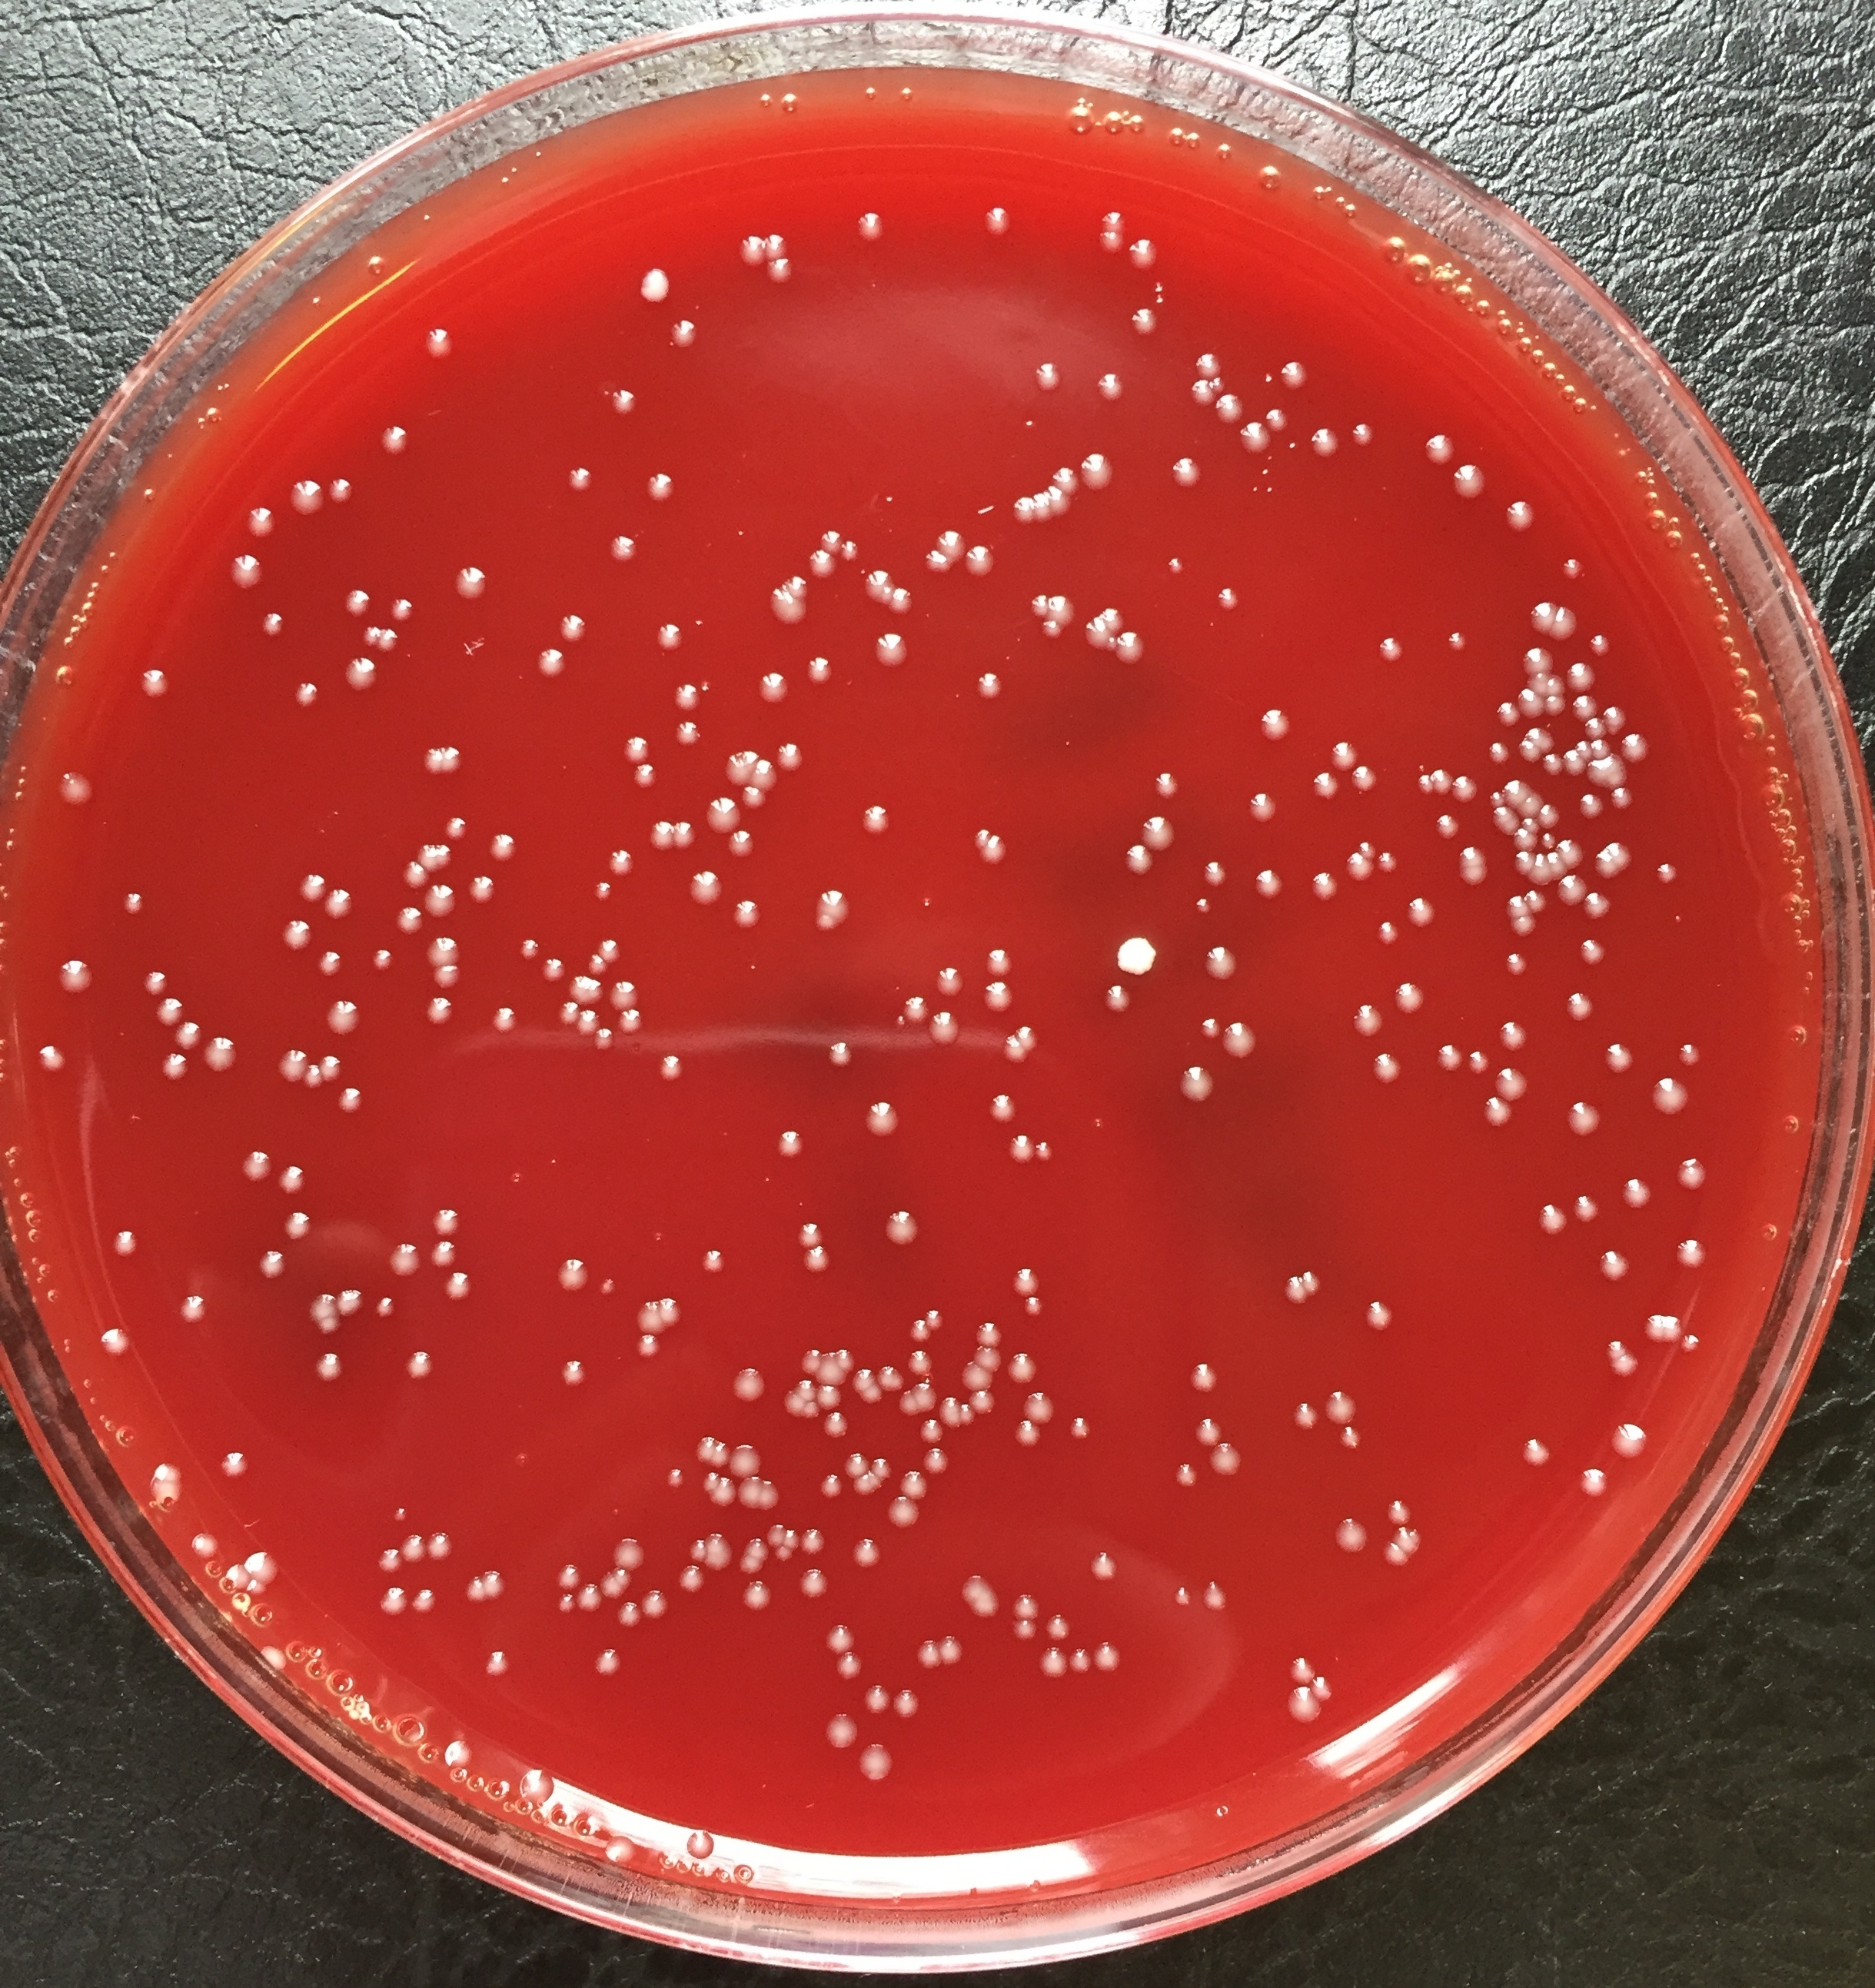sp06: (42, 756, 111, 814), (624, 261, 682, 310), (337, 654, 384, 710), (596, 382, 656, 427), (1174, 1059, 1225, 1109), (582, 1639, 627, 1692), (879, 1204, 932, 1250), (226, 548, 273, 597), (127, 661, 174, 710), (1163, 453, 1209, 502), (959, 1570, 1001, 1623), (317, 994, 365, 1040), (772, 1124, 819, 1170), (862, 1098, 906, 1147), (381, 1239, 426, 1285), (282, 675, 330, 719), (51, 952, 95, 999), (374, 411, 409, 469), (277, 906, 314, 961), (26, 1036, 72, 1080), (1223, 1017, 1269, 1061), (285, 469, 326, 518), (849, 1533, 892, 1579), (844, 206, 886, 252), (321, 872, 356, 925), (1648, 1073, 1690, 1117), (199, 1027, 240, 1073), (819, 1710, 860, 1755), (419, 315, 458, 363), (1609, 1417, 1648, 1465), (483, 1646, 520, 1695), (858, 1741, 895, 1791), (871, 626, 911, 670), (1447, 462, 1491, 502), (115, 881, 153, 927), (525, 645, 571, 684), (479, 828, 525, 867), (555, 1253, 594, 1299), (402, 1346, 441, 1392), (553, 603, 590, 650), (271, 1042, 307, 1091), (603, 1819, 638, 1868), (153, 1049, 194, 1091), (1207, 1442, 1248, 1484), (1565, 1096, 1605, 1139), (1198, 1572, 1232, 1623), (1600, 1241, 1634, 1292), (516, 1761, 555, 1805), (751, 664, 789, 708), (823, 1038, 863, 1079), (923, 1010, 964, 1050), (1346, 999, 1387, 1040), (310, 1346, 349, 1389), (104, 1223, 143, 1265), (273, 1156, 312, 1198), (707, 1524, 735, 1583), (1181, 1355, 1219, 1398), (1077, 451, 1115, 493), (1671, 1151, 1709, 1193), (1200, 943, 1244, 980), (456, 557, 488, 608), (661, 314, 707, 349), (682, 1814, 712, 1866), (559, 462, 599, 501), (797, 1563, 835, 1604), (1242, 791, 1283, 830), (1256, 705, 1295, 745), (684, 871, 724, 909), (761, 587, 802, 626), (277, 1211, 319, 1248), (426, 1524, 463, 1567), (234, 1146, 270, 1190), (1034, 1643, 1070, 1687), (856, 805, 900, 841), (1031, 356, 1066, 400), (730, 892, 763, 938), (982, 201, 1015, 247), (367, 939, 398, 987), (643, 464, 682, 502), (569, 968, 608, 1006), (444, 1271, 483, 1309), (883, 1496, 922, 1535), (703, 795, 742, 834), (331, 1084, 368, 1124), (610, 1530, 647, 1570), (1121, 844, 1161, 881), (1419, 428, 1456, 469), (1332, 1516, 1369, 1556), (633, 1297, 668, 1339), (176, 1288, 211, 1331), (479, 1563, 513, 1607), (1588, 754, 1634, 786), (95, 1324, 132, 1362), (724, 1366, 763, 1403), (1089, 368, 1128, 405), (1493, 1064, 1530, 1103), (254, 606, 294, 642), (730, 1438, 770, 1473), (1392, 976, 1427, 1017), (615, 733, 663, 763), (733, 229, 763, 277), (1308, 421, 1341, 464), (1505, 493, 1538, 536), (1369, 1049, 1403, 1091), (326, 469, 358, 513), (976, 948, 1020, 980), (148, 992, 185, 1029), (419, 994, 456, 1031), (426, 1202, 463, 1239), (1084, 1547, 1121, 1584), (1142, 814, 1179, 851), (236, 497, 271, 536), (721, 747, 756, 786), (1598, 1040, 1634, 1079), (425, 879, 458, 920), (555, 1355, 589, 1396), (257, 1248, 291, 1288), (934, 961, 967, 1001), (650, 619, 684, 659), (1114, 631, 1147, 671), (1674, 1237, 1708, 1278), (296, 862, 324, 909), (1285, 1687, 1316, 1729), (483, 1005, 518, 1042), (305, 1285, 342, 1320), (375, 1586, 411, 1623), (1251, 864, 1286, 901), (668, 680, 705, 716), (1323, 1387, 1359, 1424), (1574, 932, 1609, 969), (425, 932, 463, 966), (441, 1734, 474, 1773), (957, 1366, 996, 1399), (1124, 236, 1163, 270), (1360, 1297, 1394, 1336), (1614, 1177, 1653, 1211), (245, 1546, 285, 1577), (1006, 1350, 1038, 1391), (1186, 1410, 1218, 1450), (1309, 871, 1341, 911), (537, 948, 567, 990), (742, 1579, 772, 1621), (1094, 1639, 1124, 1681), (315, 939, 344, 983), (388, 902, 423, 938), (1563, 989, 1598, 1024), (340, 585, 374, 622), (604, 530, 638, 567), (804, 1246, 837, 1283), (982, 980, 1019, 1013), (973, 670, 1006, 707), (1375, 633, 1408, 670), (1010, 1258, 1041, 1297), (814, 885, 853, 916), (1239, 419, 1271, 458), (802, 1521, 832, 1561), (1145, 770, 1186, 800), (174, 1015, 208, 1050), (654, 1049, 687, 1084), (187, 1528, 222, 1561), (973, 1315, 1006, 1350), (1006, 1586, 1041, 1620), (1276, 356, 1309, 391), (1480, 1096, 1514, 1131), (1170, 1459, 1202, 1496), (673, 716, 705, 753), (1519, 1436, 1551, 1473), (1535, 1200, 1567, 1237), (1350, 765, 1382, 802), (1404, 894, 1436, 931), (1570, 1190, 1600, 1228), (442, 737, 471, 777), (606, 839, 634, 879), (865, 564, 893, 605), (675, 1567, 708, 1600), (1556, 872, 1590, 906), (337, 1280, 363, 1322), (220, 1445, 252, 1480), (826, 1620, 862, 1651), (941, 1630, 967, 1673), (920, 1445, 952, 1480), (1345, 416, 1376, 451), (1329, 738, 1360, 774), (1496, 1017, 1528, 1052), (426, 1241, 463, 1271), (259, 1637, 289, 1674), (1290, 1398, 1318, 1436), (805, 650, 834, 689), (1211, 578, 1239, 617), (1279, 1265, 1304, 1309), (892, 1687, 918, 1727), (915, 1636, 941, 1676), (1655, 849, 1681, 890), (897, 1470, 929, 1503), (1101, 980, 1133, 1013), (761, 259, 795, 291), (967, 548, 999, 582), (1082, 615, 1114, 649), (1211, 391, 1244, 423), (1577, 1466, 1609, 1500), (1308, 770, 1341, 802), (1519, 645, 1553, 677), (1565, 661, 1598, 693), (735, 788, 770, 818), (934, 523, 964, 559), (1433, 1042, 1463, 1077), (396, 855, 425, 892), (1195, 1005, 1223, 1042), (1130, 305, 1158, 342), (1491, 698, 1519, 735), (388, 590, 414, 629), (467, 874, 499, 906), (832, 1651, 863, 1683), (862, 1683, 893, 1715), (791, 1216, 823, 1248), (1281, 1653, 1313, 1685), (1034, 619, 1066, 650), (608, 978, 641, 1008), (1198, 857, 1228, 890), (1500, 946, 1530, 980), (1621, 731, 1651, 765), (701, 1242, 730, 1278), (576, 1584, 604, 1620), (747, 756, 775, 791), (1029, 490, 1057, 525), (1516, 687, 1544, 723), (641, 1588, 668, 1625), (411, 1581, 435, 1620), (671, 814, 696, 853), (398, 1533, 428, 1565), (552, 1558, 583, 1588), (1026, 1391, 1056, 1422), (989, 1093, 1019, 1124), (726, 827, 756, 858), (1588, 631, 1618, 663), (136, 969, 169, 998), (1045, 1609, 1073, 1643), (1006, 1131, 1034, 1165), (807, 548, 835, 582), (765, 226, 793, 259), (1338, 1422, 1366, 1456), (317, 1049, 344, 1084), (1553, 603, 1579, 638), (1068, 1644, 1093, 1681), (916, 1419, 946, 1449), (629, 763, 659, 793), (1345, 855, 1375, 885), (416, 742, 444, 774), (439, 812, 471, 841), (615, 1600, 643, 1632), (1098, 229, 1126, 261), (1047, 592, 1078, 620), (1105, 603, 1137, 631), (1385, 1498, 1413, 1530), (1674, 1042, 1706, 1070), (1575, 790, 1604, 821), (1170, 1579, 1193, 1618), (1161, 548, 1186, 583), (1528, 596, 1549, 636), (301, 1061, 324, 1098), (890, 585, 913, 622), (590, 1024, 619, 1054), (823, 1412, 853, 1440), (816, 1355, 844, 1385), (980, 837, 1008, 867), (1195, 347, 1225, 375), (1441, 626, 1470, 656), (1452, 774, 1482, 802), (1526, 726, 1556, 754), (1489, 807, 1517, 837), (310, 1315, 342, 1341), (150, 1482, 182, 1509), (693, 1431, 719, 1463), (869, 1452, 895, 1484), (878, 1362, 904, 1394), (904, 1346, 936, 1373), (1017, 1020, 1043, 1052), (775, 738, 802, 770), (515, 934, 539, 968), (663, 1463, 687, 1496), (818, 1470, 842, 1503), (904, 994, 929, 1027), (1188, 375, 1212, 409), (1560, 837, 1584, 871), (460, 1569, 481, 1607), (381, 627, 404, 663), (597, 1271, 620, 1306), (714, 1475, 737, 1510), (1050, 483, 1073, 518), (1454, 844, 1489, 867), (816, 527, 844, 555), (1431, 811, 1459, 839), (1006, 1618, 1036, 1644), (1098, 204, 1128, 231), (1049, 464, 1078, 490), (1265, 404, 1292, 434), (1378, 1539, 1404, 1569), (1463, 1045, 1489, 1075), (1570, 694, 1600, 721), (430, 966, 462, 990), (590, 878, 615, 909), (615, 1012, 647, 1036), (633, 1336, 664, 1361), (797, 1346, 821, 1378), (973, 1346, 1004, 1371), (761, 1477, 782, 1512), (939, 1392, 960, 1428), (1188, 895, 1216, 922), (1010, 493, 1031, 529), (1304, 1258, 1322, 1301), (1614, 1355, 1641, 1383), (1588, 892, 1614, 920), (1376, 918, 1401, 948), (1505, 777, 1530, 807), (574, 1008, 597, 1040), (1068, 1413, 1091, 1445), (1433, 765, 1456, 797), (742, 1475, 761, 1512), (152, 1461, 185, 1482), (648, 818, 670, 851), (1528, 855, 1549, 888), (430, 844, 456, 871), (849, 1475, 876, 1502), (1015, 1422, 1041, 1449), (923, 548, 950, 575), (1396, 1526, 1422, 1553), (582, 952, 610, 976), (374, 1547, 402, 1572), (971, 1391, 999, 1415), (999, 1038, 1024, 1066), (1609, 837, 1634, 865), (1604, 701, 1628, 730), (1484, 740, 1512, 765), (1563, 753, 1588, 781), (601, 1572, 622, 1604), (684, 1533, 705, 1565), (374, 1295, 398, 1322), (611, 1563, 638, 1588), (1022, 1297, 1049, 1322), (1561, 555, 1586, 582), (1598, 848, 1616, 885), (1315, 1671, 1334, 1704), (601, 932, 624, 961), (1660, 1315, 1683, 1343), (814, 1385, 844, 1406), (666, 1295, 684, 1331), (844, 530, 863, 562), (1609, 788, 1641, 807), (1547, 851, 1567, 883), (737, 1554, 761, 1579), (904, 1318, 929, 1343), (923, 1304, 948, 1329), (1521, 791, 1545, 816), (358, 622, 381, 649), (846, 1452, 869, 1479), (1537, 758, 1563, 781), (915, 1383, 936, 1412), (1642, 1313, 1662, 1343), (1510, 916, 1540, 936), (224, 1565, 248, 1588), (779, 1391, 802, 1415), (1412, 772, 1434, 797), (1542, 694, 1567, 717), (1582, 717, 1607, 740), (1512, 827, 1537, 849), (557, 998, 578, 1024), (745, 1533, 767, 1560), (959, 1399, 976, 1431), (1034, 1137, 1056, 1163), (1602, 1336, 1623, 1362), (899, 1392, 918, 1421), (786, 573, 805, 601), (1459, 865, 1487, 885), (1514, 849, 1533, 878), (795, 1378, 818, 1401), (1376, 849, 1399, 872), (1669, 909, 1692, 932), (1503, 894, 1526, 916), (386, 1505, 411, 1526), (853, 1366, 874, 1391), (862, 1385, 883, 1410), (1542, 802, 1561, 828), (247, 1579, 271, 1599), (555, 1591, 574, 1616), (1588, 737, 1612, 756), (765, 1521, 782, 1547), (835, 1345, 853, 1371), (1027, 590, 1045, 617), (1528, 671, 1545, 698), (717, 1438, 731, 1470), (812, 918, 834, 939), (973, 825, 996, 844), (1542, 675, 1565, 694), (804, 1398, 818, 1428), (1526, 890, 1544, 913), (419, 844, 434, 872), (1521, 738, 1537, 763), (1359, 839, 1378, 858), (1683, 1332, 1701, 1354), (1574, 740, 1591, 761), (701, 1468, 717, 1491), (774, 1547, 791, 1565), (1211, 375, 1228, 393), (1487, 788, 1503, 807), (1521, 818, 1540, 834), (1540, 830, 1556, 849), (782, 1526, 797, 1547), (892, 1013, 906, 1029)
